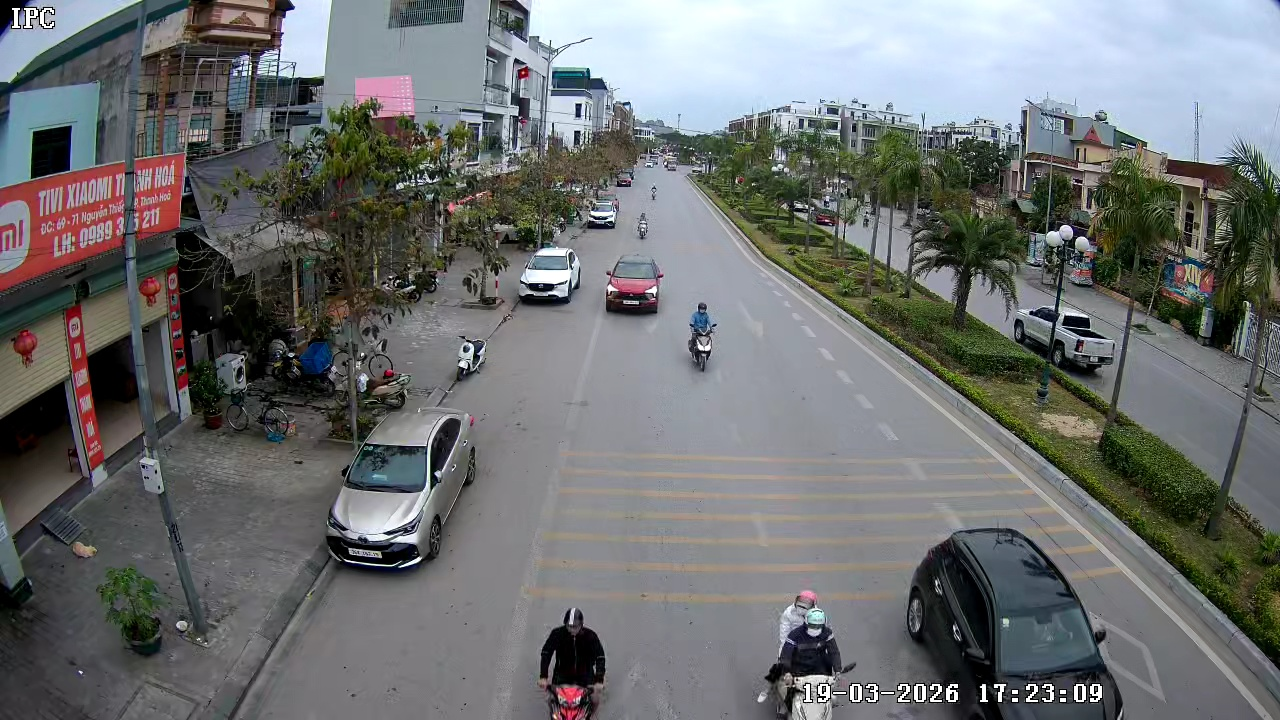car: (903, 523, 1129, 719), (325, 406, 477, 571), (603, 251, 665, 315), (518, 245, 582, 304), (584, 197, 619, 228)
motorbike: (755, 589, 854, 719), (535, 606, 610, 719), (354, 341, 413, 411), (686, 299, 718, 372), (453, 331, 487, 382), (636, 209, 651, 241)
